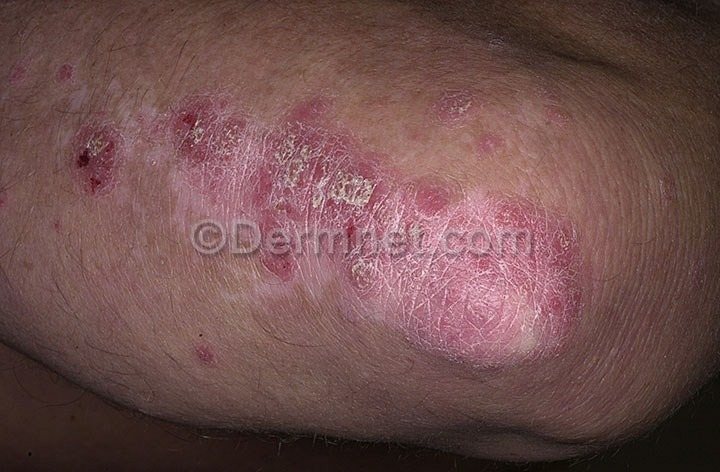Psoriasis: (269, 111, 587, 366), (159, 92, 265, 192), (55, 114, 125, 200)
